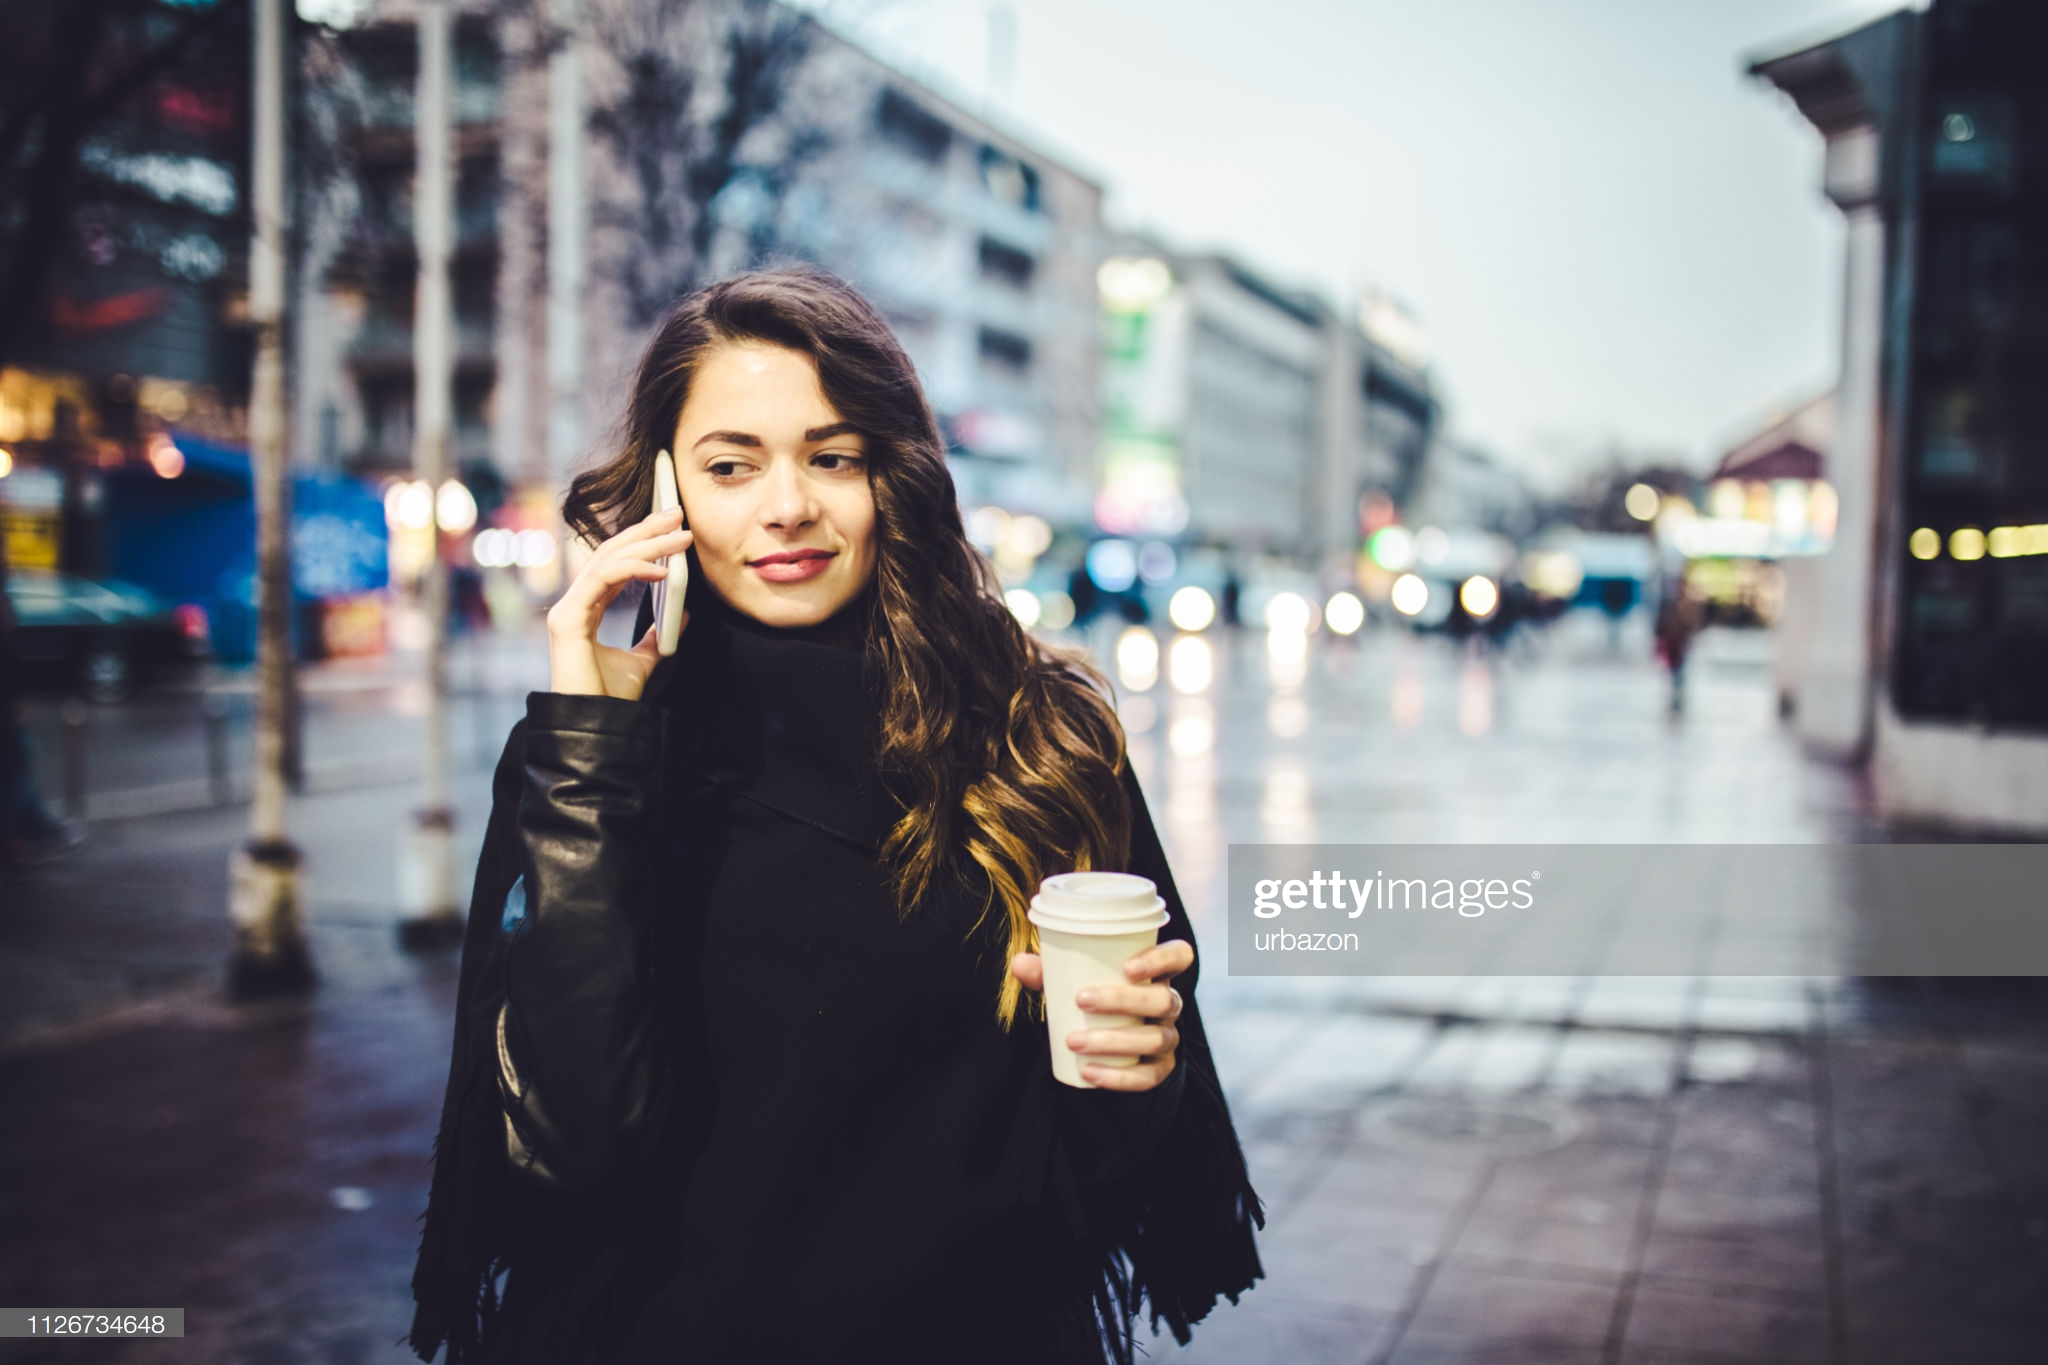phone: (591, 439, 713, 667)
talk: (522, 395, 880, 686)
